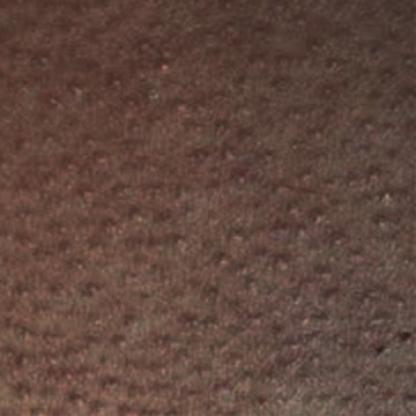Chicken Skin: (0, 2, 415, 415)
